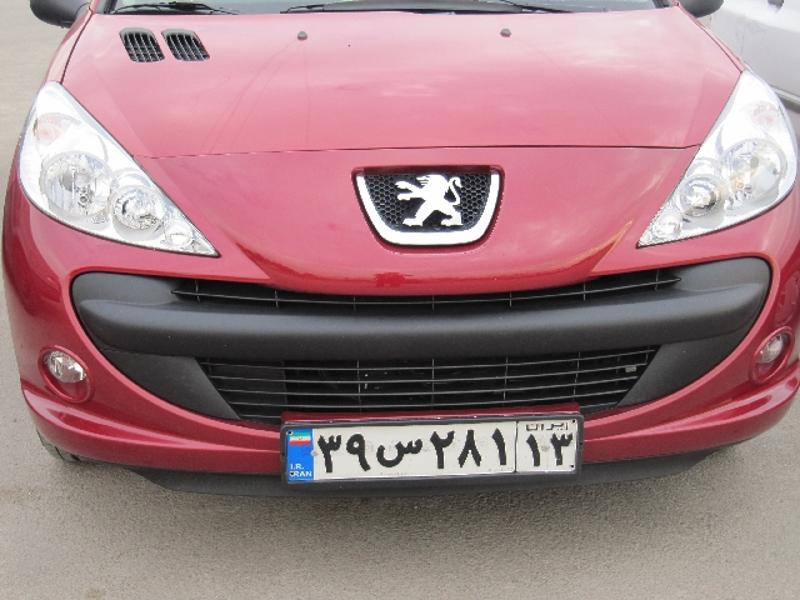Plate: (274, 413, 596, 488)
